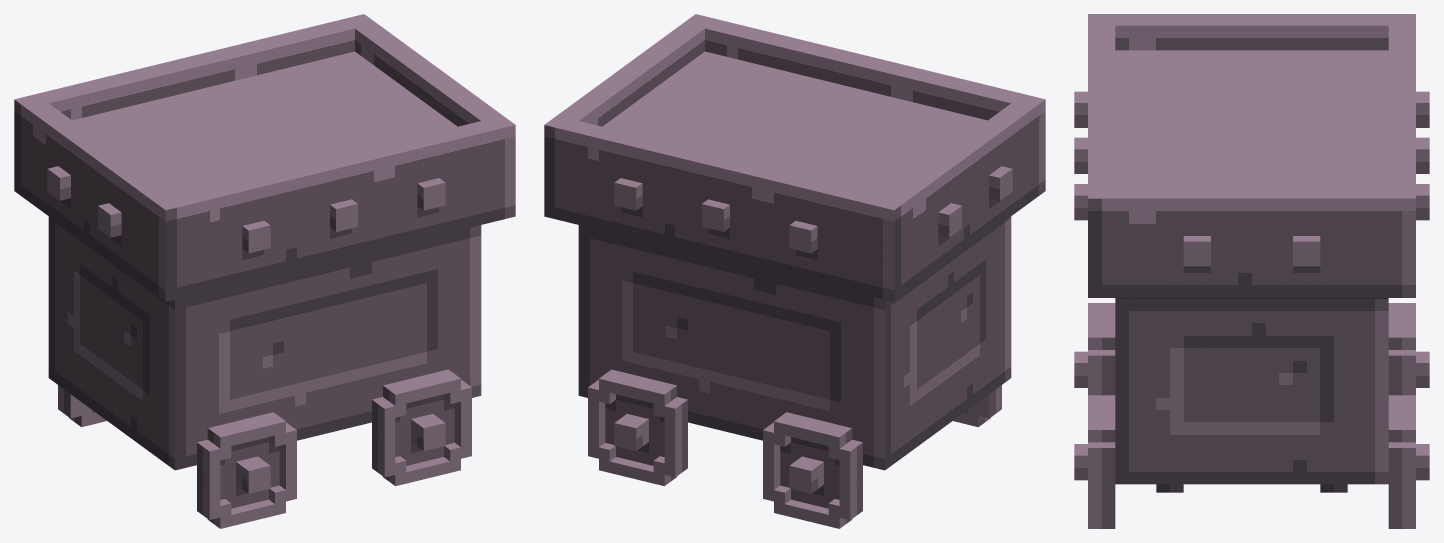
File: minecart_aao.fezao.glb
3 renders of one model, left to right at view 1: azimuth 30°, elevation 25°; view 2: azimuth 150°, elevation 25°; view 3: azimuth 270°, elevation 25°, orthographic. The views are drawn at different scales.
Visible parts, largest first — view 1: MINECART_AAO; view 2: MINECART_AAO; view 3: MINECART_AAO.
Part boxes in pixels (<box>): MINECART_AAO: <box>14,14,515,528</box>; MINECART_AAO: <box>544,14,1045,528</box>; MINECART_AAO: <box>1074,14,1429,528</box>.
Size of the model in its own units: 2.12 by 1.81 by 1.62.
Materials: 1 (1 with a texture image).
